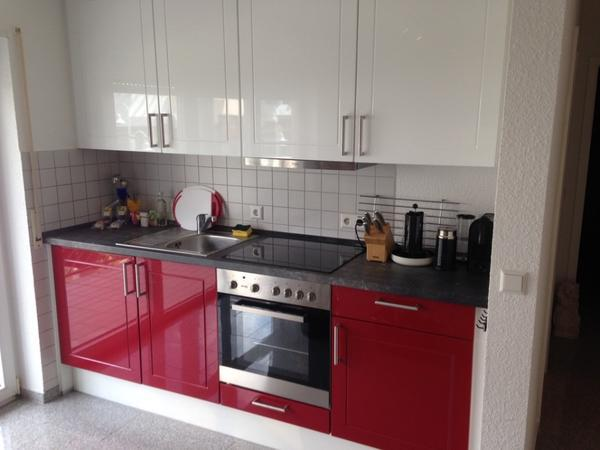cabinet_door: (356, 0, 498, 162), (241, 2, 354, 161), (330, 322, 470, 445), (68, 1, 160, 151), (154, 2, 233, 155), (134, 262, 217, 389), (59, 257, 136, 382), (333, 294, 474, 323), (225, 396, 324, 420)
handle: (228, 297, 311, 324), (374, 299, 424, 314), (248, 397, 289, 415), (357, 113, 373, 158), (336, 113, 352, 157), (145, 111, 161, 149), (160, 111, 176, 149), (120, 258, 136, 296), (332, 324, 345, 367), (133, 260, 148, 297)
